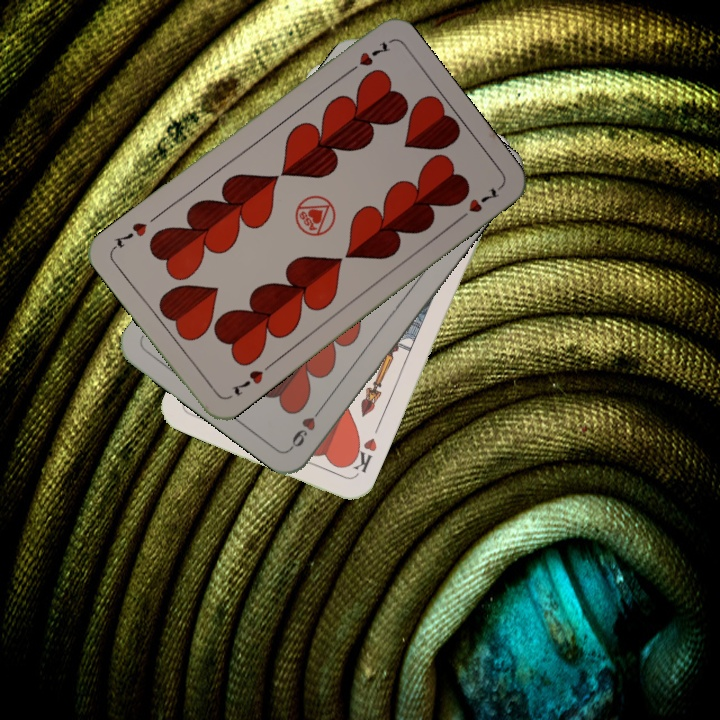H7: (342, 37, 393, 78), (227, 365, 266, 399)
H9: (286, 401, 327, 452)
HK: (343, 434, 380, 480)
